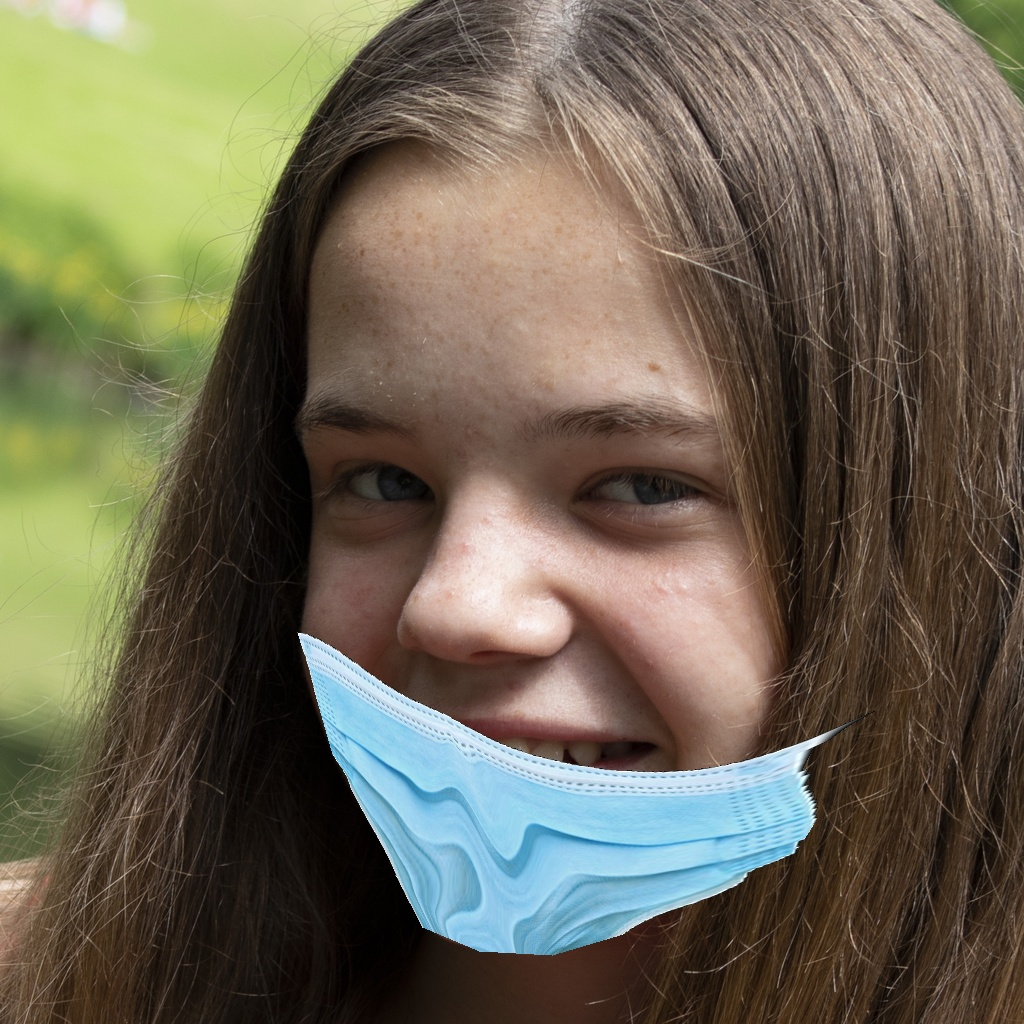mask_weared_incorrect: (259, 368, 823, 962)
